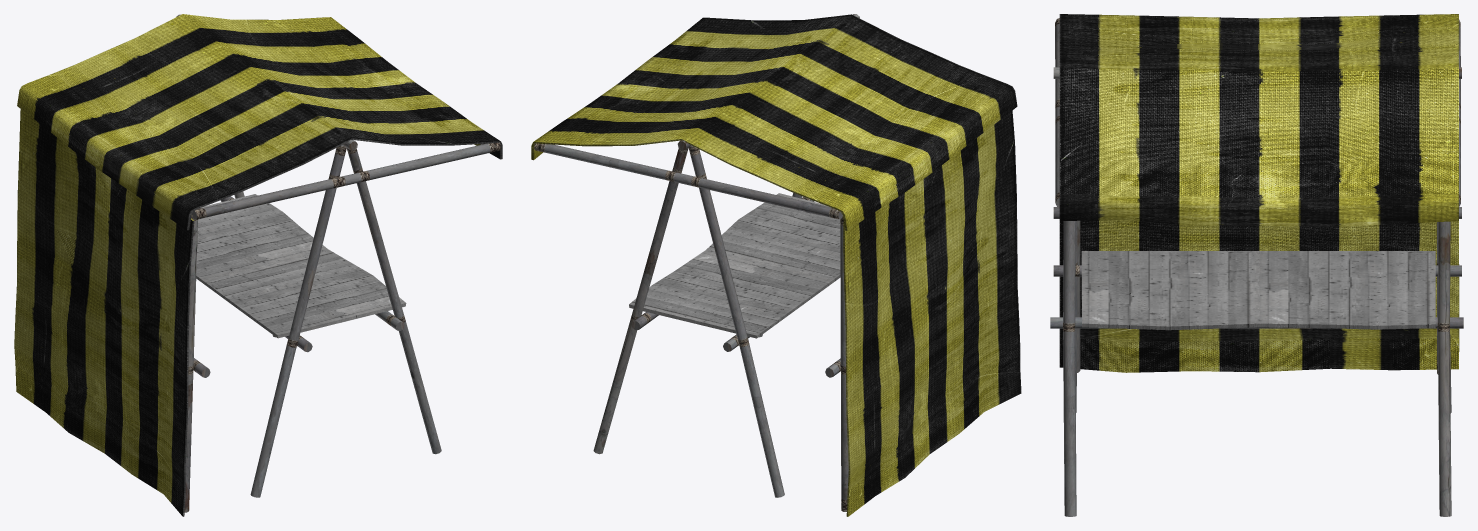
The model's file is booth02_LOD01.fbx.
3 renders of one model, left to right at view 1: azimuth 30°, elevation 25°; view 2: azimuth 150°, elevation 25°; view 3: azimuth 270°, elevation 25°, orthographic. The views are drawn at different scales.
Parts seen in each view (by area): view 1: Mesh Object; view 2: Mesh Object; view 3: Mesh Object.
Boxes of the visible parts, left/top/right/bottom form: Mesh Object: left=14, top=14, right=502, bottom=516; Mesh Object: left=531, top=14, right=1021, bottom=516; Mesh Object: left=1050, top=14, right=1463, bottom=516.
Size of the model in its own units: 2.38 by 2.39 by 2.25.
